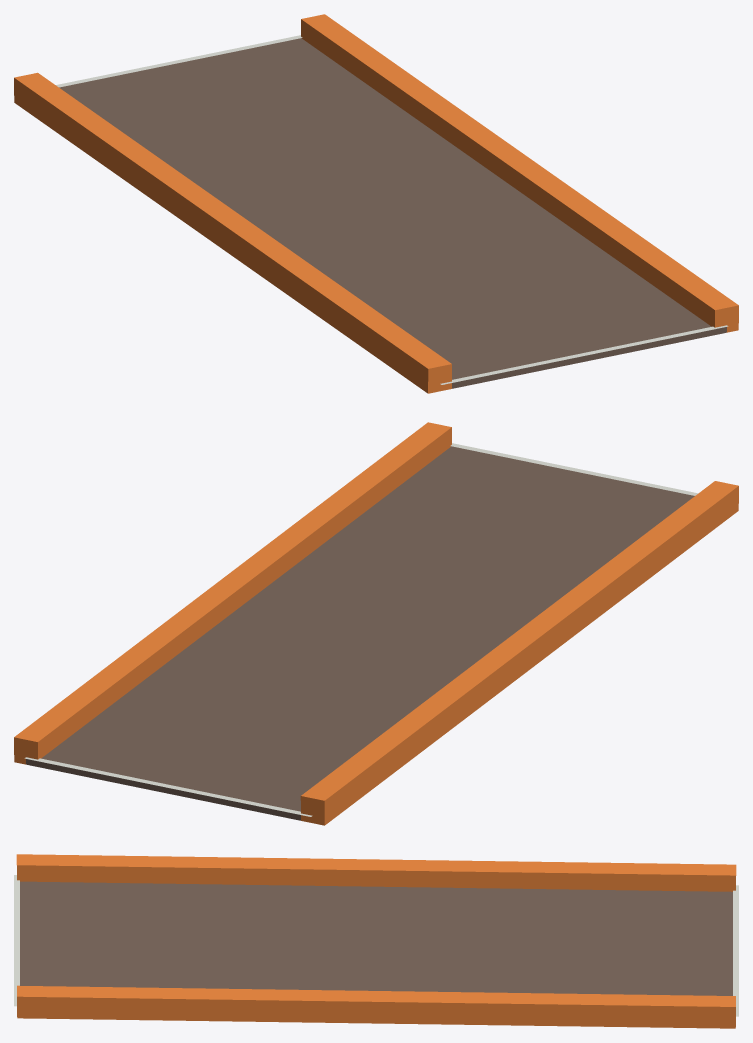
File: SM_MP_Film_B_1_3.fbx
The picture shows the model from 3 angles, top to bottom: view 1: azimuth 30°, elevation 25°; view 2: azimuth 150°, elevation 25°; view 3: azimuth 270°, elevation 25°; orthographic projection. The views are drawn at different scales.
Parts seen in each view (by area): view 1: SM_MP_Film_B_1_3; view 2: SM_MP_Film_B_1_3; view 3: SM_MP_Film_B_1_3.
Part boxes in pixels (box(x1,y1,x2,y2)): SM_MP_Film_B_1_3: box(14, 14, 738, 393); SM_MP_Film_B_1_3: box(14, 422, 738, 825); SM_MP_Film_B_1_3: box(14, 854, 738, 1028).
Size of what is drawn, in the model's own units: 260 by 605 by 39.41.
